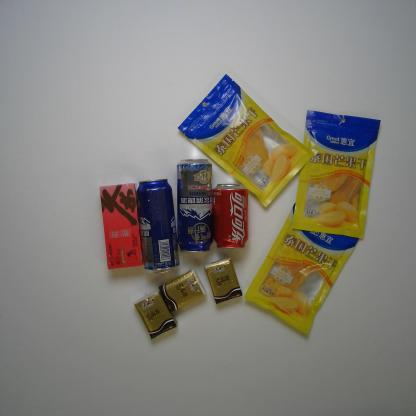Alcohol: (136, 178, 180, 275), (177, 158, 213, 253)
Dried Fruit: (176, 73, 316, 208), (244, 203, 359, 337), (291, 109, 381, 240)
Drink: (212, 183, 249, 249)
Instant Drink: (99, 182, 144, 270)
Tissue: (133, 291, 178, 341), (158, 269, 207, 313), (204, 257, 243, 305)
